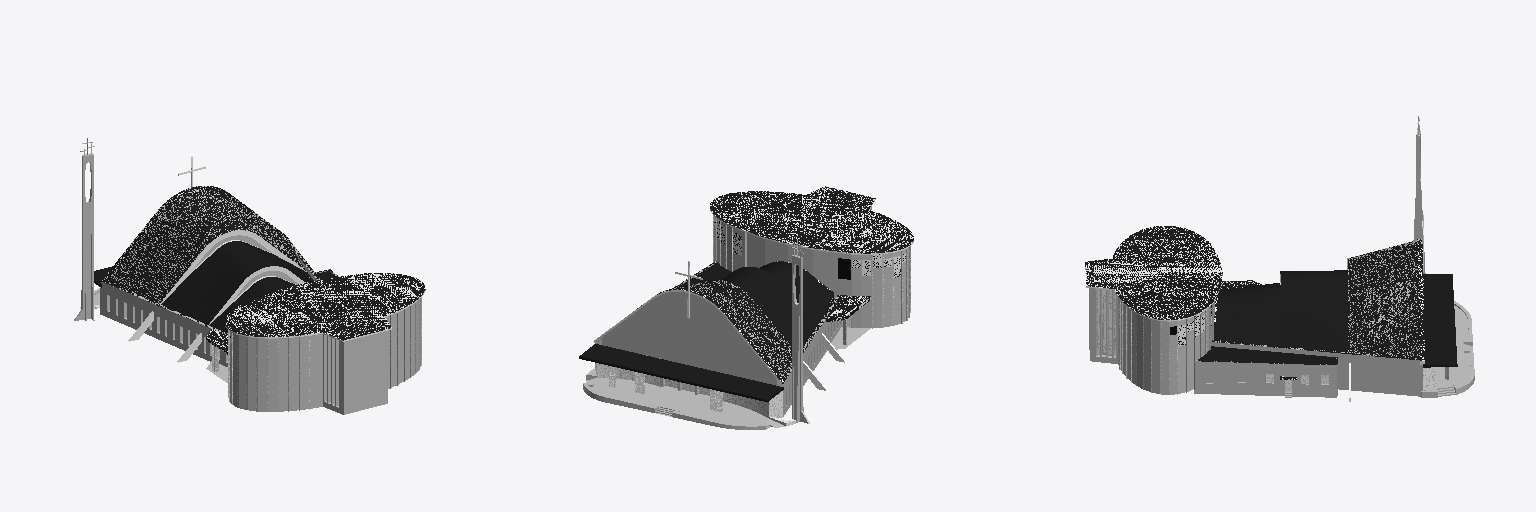
The model's file is ES_CYL_santamarinavillarcayo.obj.
3 renders of one model, left to right at view 1: azimuth 30°, elevation 25°; view 2: azimuth 150°, elevation 25°; view 3: azimuth 270°, elevation 25°, orthographic.
Visible parts, largest first — view 1: SketchUp.412_ID1779, group_3_ID26, group_1_ID10, SketchUp.409_ID1755, SketchUp.002_ID334, instance_0.001_ID79, SketchUp.535_ID2700, SketchUp.019_ID495, group_2_ID19, SketchUp.411_ID1771, SketchUp.015_ID453, SketchUp.453_ID2091 (+7 smaller); view 2: SketchUp.412_ID1779, SketchUp.521_ID2592, SketchUp.514_ID2532, SketchUp.356_ID1254, group_3_ID26, group_1_ID10, SketchUp.036_ID653, group_2_ID19, instance_0.001_ID79, SketchUp.002_ID334, SketchUp.004_ID350, SketchUp.448_ID2051 (+2 smaller); view 3: SketchUp.412_ID1779, group_3_ID26, SketchUp_ID313, group_1_ID10, group_2_ID19, SketchUp.514_ID2532, SketchUp.336_ID1115, SketchUp.356_ID1254, SketchUp.409_ID1755, SketchUp.440_ID1984, instance_0.001_ID79, SketchUp.351_ID1224.
Part boxes in pixels (x1,y1,x2,y2): SketchUp.412_ID1779: (225,273,425,340); group_3_ID26: (106,188,304,303); group_1_ID10: (161,241,311,323); SketchUp.409_ID1755: (344,316,389,414); SketchUp.002_ID334: (100,282,227,366); instance_0.001_ID79: (74,153,94,320); SketchUp.535_ID2700: (323,334,343,414); SketchUp.019_ID495: (128,230,304,341); group_2_ID19: (209,277,294,332); SketchUp.411_ID1771: (310,334,322,408); SketchUp.015_ID453: (177,266,305,362); SketchUp.453_ID2091: (257,338,266,411); SketchUp.412_ID1779: (710,186,913,253); SketchUp.521_ID2592: (602,292,776,384); SketchUp.514_ID2532: (579,344,783,401); SketchUp.356_ID1254: (586,377,785,428); group_3_ID26: (680,280,791,379); group_1_ID10: (722,267,815,346); SketchUp.036_ID653: (747,233,833,291); group_2_ID19: (760,262,833,325); instance_0.001_ID79: (792,255,809,423); SketchUp.002_ID334: (783,253,850,416); SketchUp.004_ID350: (826,295,870,321); SketchUp.448_ID2051: (873,254,882,327); SketchUp.412_ID1779: (1085,226,1222,319); group_3_ID26: (1348,240,1419,359); SketchUp_ID313: (1194,303,1422,397); group_1_ID10: (1283,270,1348,352); group_2_ID19: (1214,283,1280,346); SketchUp.514_ID2532: (1423,274,1457,367); SketchUp.336_ID1115: (1198,346,1335,363); SketchUp.356_ID1254: (1436,306,1472,396); SketchUp.409_ID1755: (1089,288,1118,364); SketchUp.440_ID1984: (1152,320,1160,393); instance_0.001_ID79: (1413,131,1425,273); SketchUp.351_ID1224: (1417,239,1424,360).
Size of the model in its own units: 34.28 by 26.89 by 51.8.